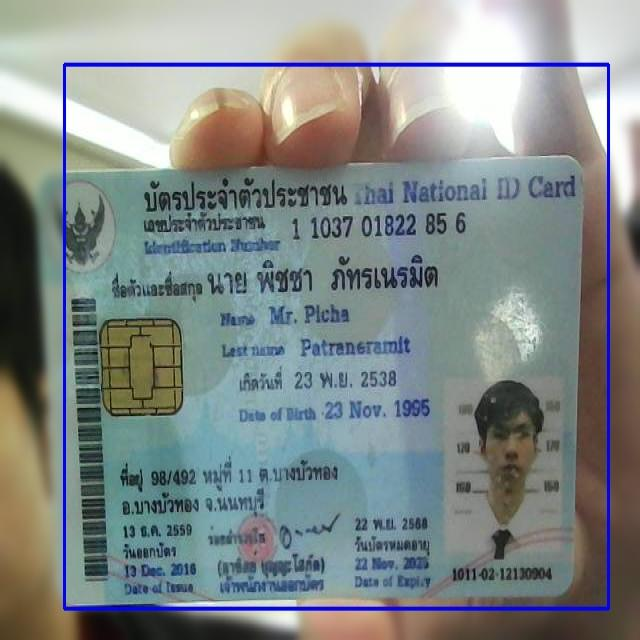Address_th: (114, 450, 345, 522)
Date_of_Birth: (322, 392, 434, 424)
Date_of_Expiry: (350, 551, 436, 576)
Date_of_Issue: (120, 557, 201, 581)
First_Name: (266, 300, 350, 329)
ID_Number: (289, 208, 470, 242)
Image: (448, 380, 562, 558)
Last_Name: (299, 333, 415, 361)
Thai_Name: (205, 253, 450, 296)
